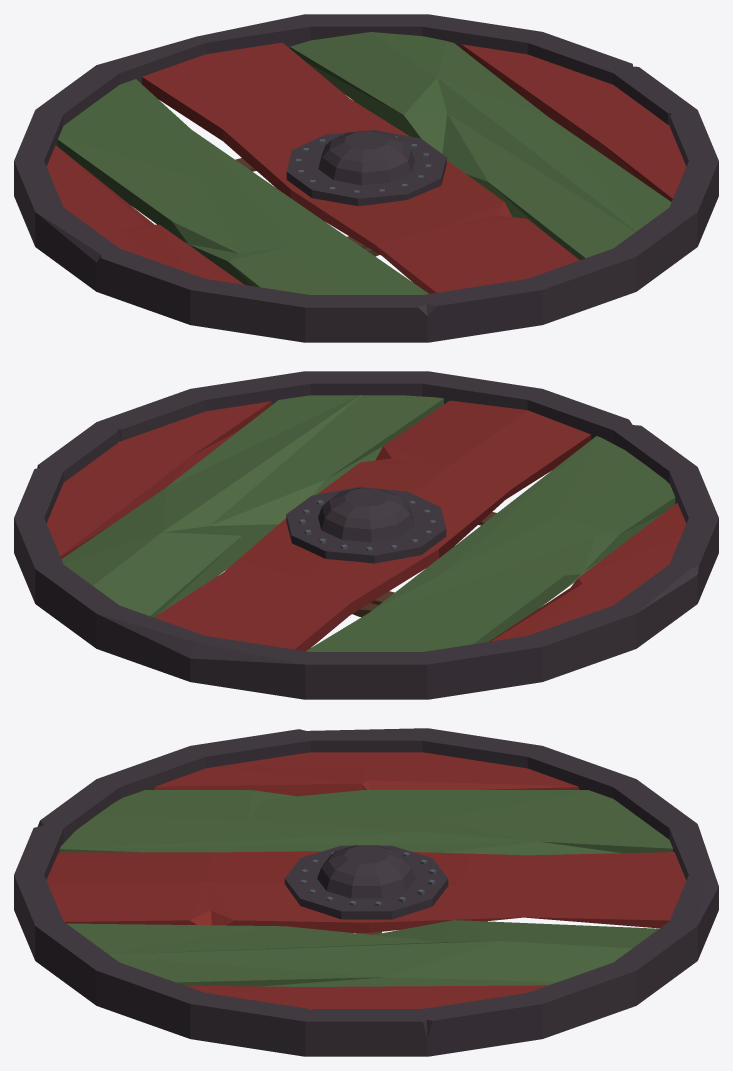
File: Shield_5.fbx
The picture shows the model from 3 angles, top to bottom: view 1: azimuth 30°, elevation 25°; view 2: azimuth 150°, elevation 25°; view 3: azimuth 270°, elevation 25°; orthographic projection.
Visible parts, largest first — view 1: Shield_5; view 2: Shield_5; view 3: Shield_5.
Boxes of the visible parts, x1,y1,x2,y2 form: Shield_5: (14,14,718,342); Shield_5: (14,371,718,699); Shield_5: (14,728,718,1056).
Bounding box in the file's own units: 0.9046 × 0.1635 × 0.9186.
